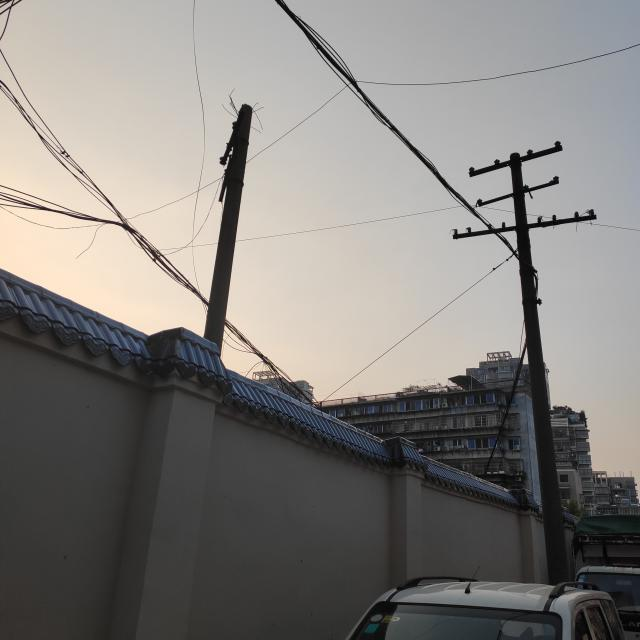car: (338, 576, 626, 638)
pole: (508, 150, 567, 585), (201, 104, 254, 337)
